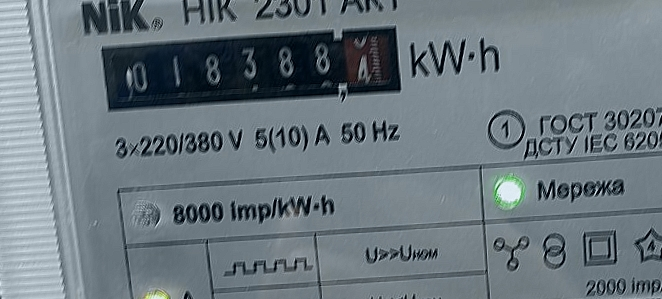0: (129, 57, 151, 94)
1: (167, 50, 186, 88)
3: (239, 44, 261, 80)
4: (353, 51, 375, 85)
8: (311, 39, 334, 76), (202, 49, 224, 86), (275, 44, 297, 80)
screen: (93, 16, 415, 122)
